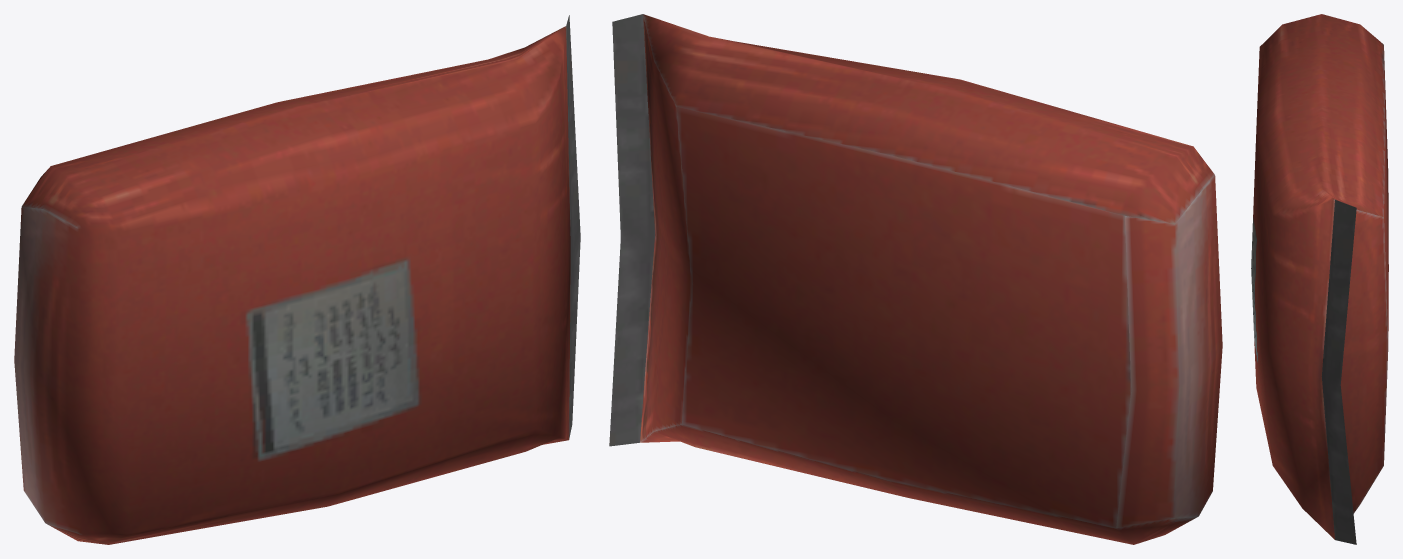
The model's file is p6_bag_spice_LOD0.obj.
3 renders of one model, left to right at view 1: azimuth 30°, elevation 25°; view 2: azimuth 150°, elevation 25°; view 3: azimuth 270°, elevation 25°, orthographic. The views are drawn at different scales.
Parts seen in each view (by area): view 1: mtl_p6_bag_spice; view 2: mtl_p6_bag_spice; view 3: mtl_p6_bag_spice.
Part boxes in pixels (x1,y1,x2,y2): mtl_p6_bag_spice: (14, 15, 580, 544); mtl_p6_bag_spice: (609, 14, 1222, 544); mtl_p6_bag_spice: (1251, 14, 1388, 544).
Size of the model in its own units: 33.24 by 23.67 by 8.71.
